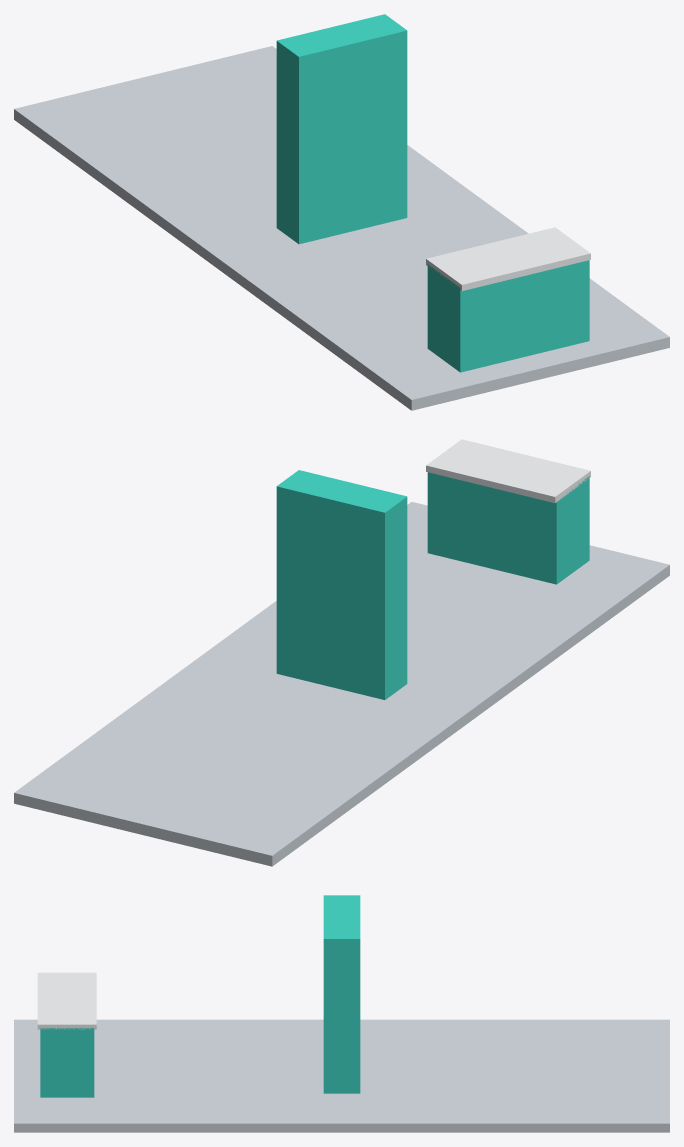
3 renders of one model, top to bottom at view 1: azimuth 30°, elevation 25°; view 2: azimuth 150°, elevation 25°; view 3: azimuth 270°, elevation 25°, orthographic. The views are drawn at different scales.
Parts seen in each view (by area): view 1: Exhibition Booth Concept; view 2: Exhibition Booth Concept; view 3: Exhibition Booth Concept.
Part boxes in pixels (box(x1,y1,x2,y2)): Exhibition Booth Concept: box(14, 14, 669, 410); Exhibition Booth Concept: box(14, 439, 669, 866); Exhibition Booth Concept: box(14, 895, 669, 1132).
Size of the model in its own units: 3 by 2.2 by 8.
